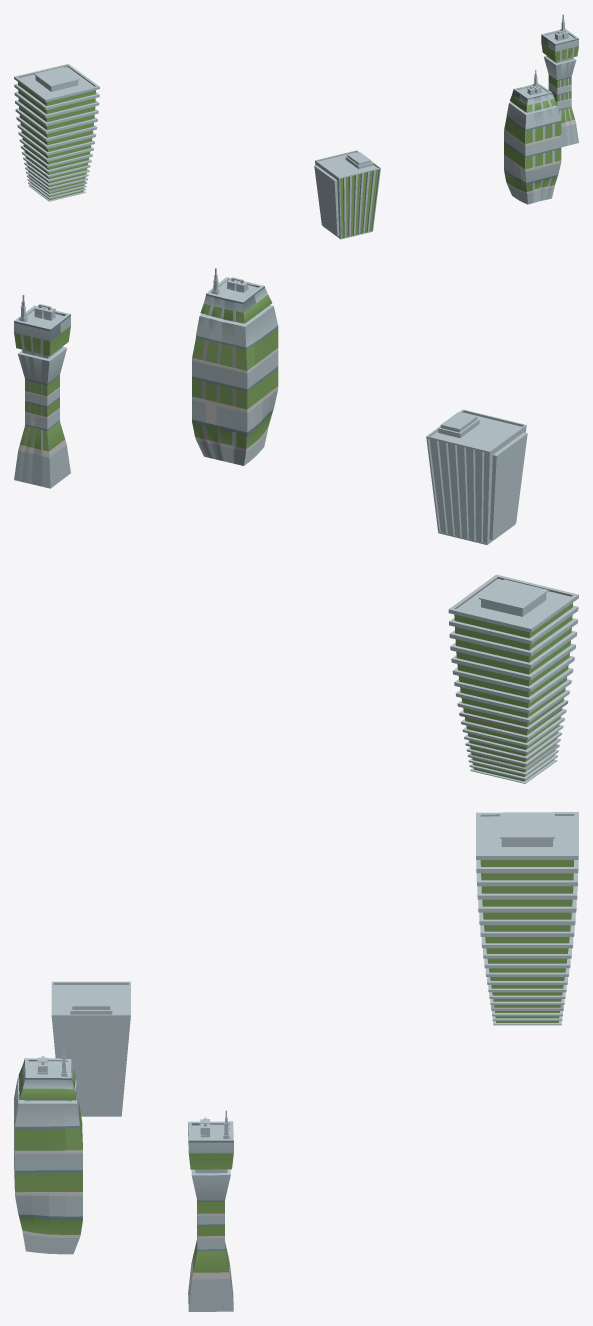
The model's file is ExaggeratedBuildings.fbx.
3 renders of one model, top to bottom at view 1: azimuth 30°, elevation 25°; view 2: azimuth 150°, elevation 25°; view 3: azimuth 270°, elevation 25°, orthographic. The views are drawn at different scales.
Visible parts, largest first — view 1: Highrise_20, Highrise_23, Highrise_21, Highrise_22; view 2: Highrise_20, Highrise_23, Highrise_21, Highrise_22; view 3: Highrise_20, Highrise_23, Highrise_21, Highrise_22.
Part boxes in pixels (left/top/right/bottom): Highrise_20: left=14, top=63, right=99, bottom=201; Highrise_23: left=504, top=69, right=561, bottom=204; Highrise_21: left=314, top=150, right=380, bottom=239; Highrise_22: left=541, top=14, right=578, bottom=147; Highrise_20: left=448, top=574, right=578, bottom=783; Highrise_23: left=192, top=268, right=278, bottom=465; Highrise_21: left=426, top=409, right=527, bottom=544; Highrise_22: left=14, top=294, right=70, bottom=488; Highrise_20: left=476, top=812, right=578, bottom=1025; Highrise_23: left=14, top=1049, right=82, bottom=1254; Highrise_21: left=51, top=981, right=130, bottom=1116; Highrise_22: left=188, top=1110, right=233, bottom=1311.
Size of the model in its own units: 27.69 by 8.38 by 18.57.
